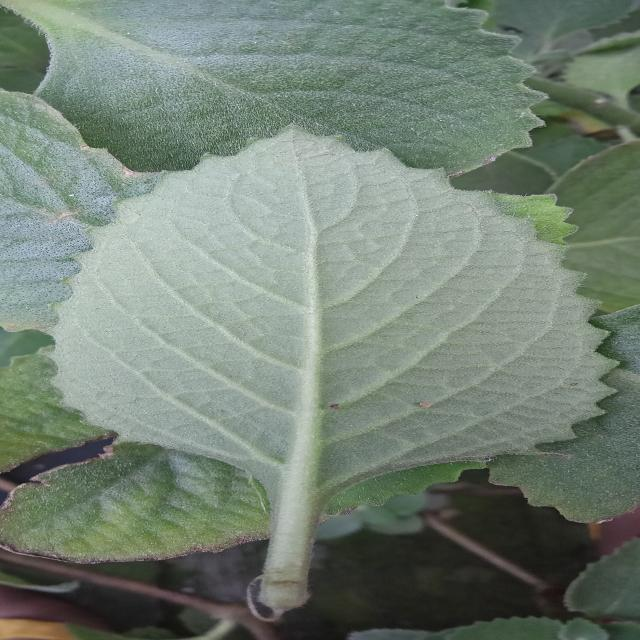Oregano: (46, 120, 633, 514)
